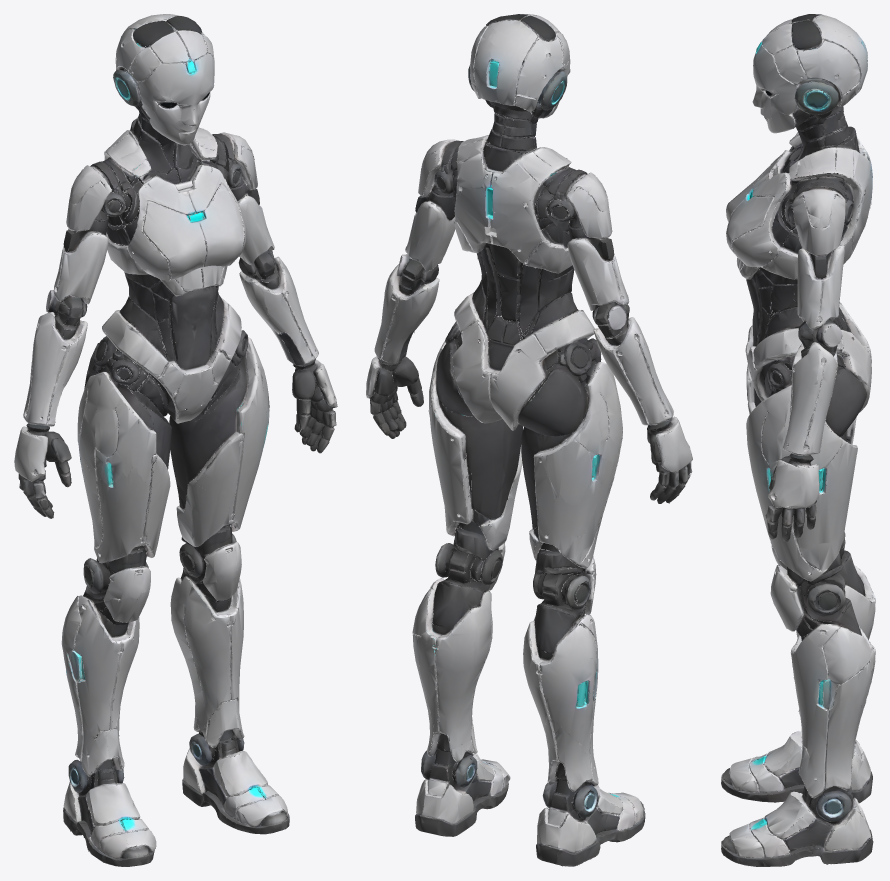
The model's file is android_test_dummy_100k.glb.
3 renders of one model, left to right at view 1: azimuth 30°, elevation 25°; view 2: azimuth 150°, elevation 25°; view 3: azimuth 270°, elevation 25°, orthographic.
Parts seen in each view (by area): view 1: model; view 2: model; view 3: model.
Boxes of the visible parts, bbox=[...] form: model: bbox=[14, 14, 337, 866]; model: bbox=[366, 14, 692, 866]; model: bbox=[721, 14, 875, 866].
Bounding box in the file's own units: 0.6476 × 1.6 × 0.2794.
Materials: 1 (1 with a texture image).
